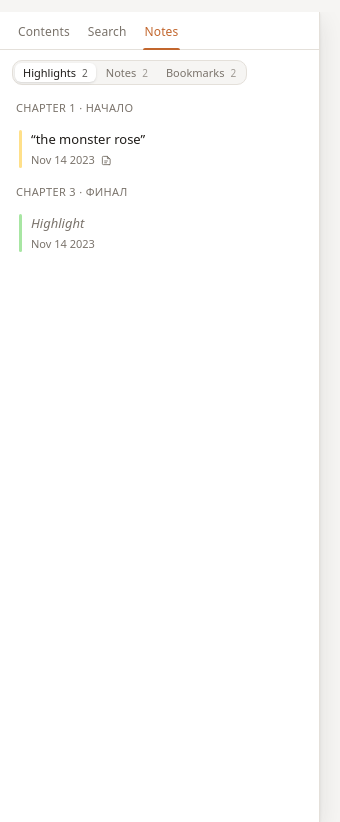
Test: AnnotationsPanel › never shows another book’s annotations
Click the tab "Notes 2": {"x": 127, "y": 73} [98,63,156,82]
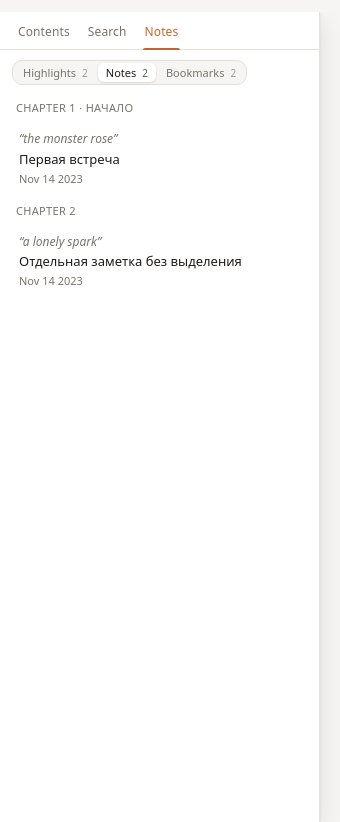
Click the tab "Bookmarks 2": {"x": 201, "y": 73} [158,63,244,82]
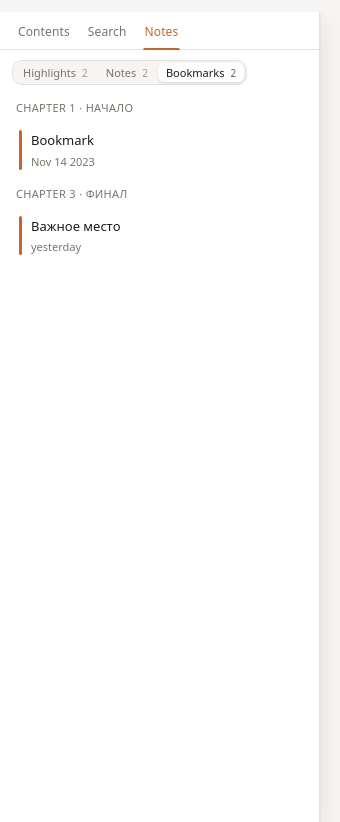
Expected: the number of buttons with test id "bookmark-row" is 2, [19,130,95,170]; [19,216,120,255]
